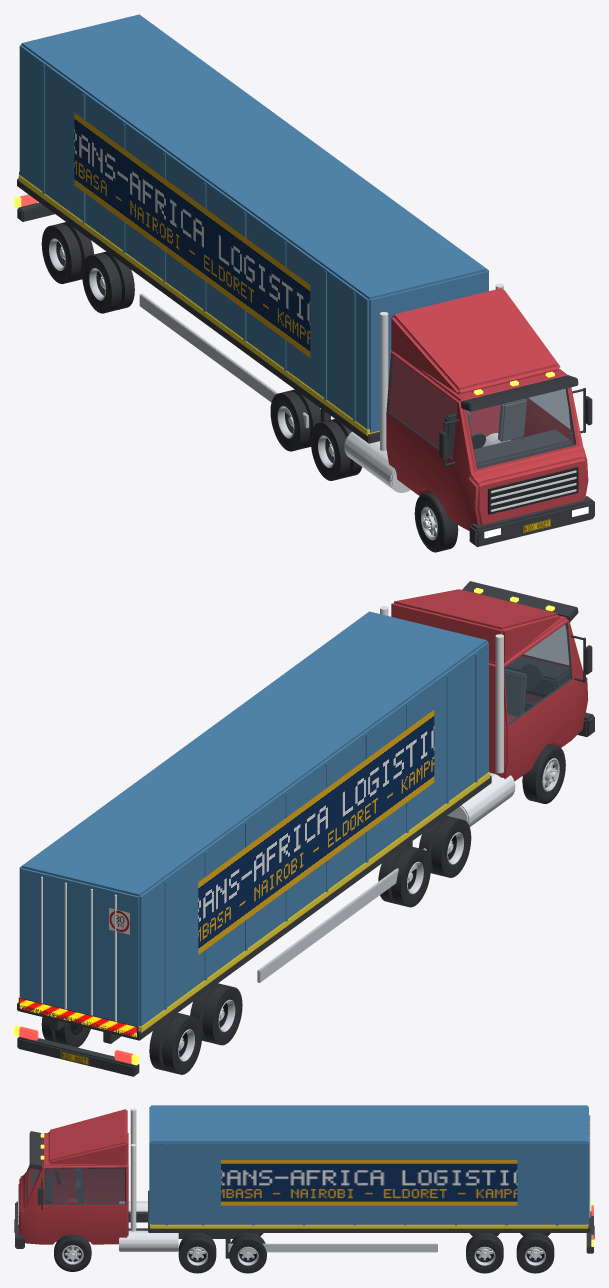
File: Kenya_SemiTrailer_Transit.glb
3 views of the same model, one above another, from view 1: azimuth 30°, elevation 25°; view 2: azimuth 150°, elevation 25°; view 3: azimuth 270°, elevation 25° (orthographic). The views are drawn at different scales.
Visible parts, largest first — view 1: Container40ft, Tractor_Cab, TrailerBanner_1, TractorWindFairing, TrailerFlatbed, Wheel_RR1, ContainerYellow, Wheel_RR2, TractorBumper, Wheel_TR2, TrailerGuard_1, Wheel_TR1 (+7 smaller); view 2: Container40ft, TrailerBanner_1, Tractor_Cab, TractorWindFairing, TrailerFlatbed, Wheel_RR2, ContainerYellow, Wheel_RR1, Wheel_TR1, Wheel_TR2, TrailerGuard_1, Wheel_FR (+8 smaller); view 3: Container40ft, TrailerBanner_-1, Tractor_Cab, TractorWindFairing, TrailerFlatbed, ContainerYellow, TrailerGuard_-1, Wheel_RL2, Wheel_TL1, Wheel_RL1, Wheel_TL2, Wheel_FL (+10 smaller).
Boxes of the visible parts, bbox=[...] form: Container40ft: bbox=[19, 14, 488, 432]; Tractor_Cab: bbox=[386, 350, 588, 530]; TrailerBanner_1: bbox=[74, 112, 310, 357]; TractorWindFairing: bbox=[391, 288, 560, 394]; TrailerFlatbed: bbox=[17, 178, 379, 443]; Wheel_RR1: bbox=[82, 251, 134, 313]; ContainerYellow: bbox=[18, 175, 379, 435]; Wheel_RR2: bbox=[41, 222, 93, 283]; TractorBumper: bbox=[469, 496, 594, 546]; Wheel_TR2: bbox=[270, 389, 320, 451]; TrailerGuard_1: bbox=[139, 293, 308, 428]; Wheel_TR1: bbox=[310, 419, 362, 480]; Container40ft: bbox=[19, 611, 488, 1029]; TrailerBanner_1: bbox=[198, 710, 434, 954]; Tractor_Cab: bbox=[489, 615, 588, 781]; TractorWindFairing: bbox=[391, 589, 560, 663]; TrailerFlatbed: bbox=[17, 775, 491, 1040]; Wheel_RR2: bbox=[149, 1013, 202, 1074]; ContainerYellow: bbox=[18, 772, 489, 1032]; Wheel_RR1: bbox=[190, 983, 242, 1045]; Wheel_TR1: bbox=[419, 816, 471, 877]; Wheel_TR2: bbox=[378, 845, 430, 907]; TrailerGuard_1: bbox=[257, 848, 426, 982]; Wheel_FR: bbox=[522, 743, 565, 803]; Container40ft: bbox=[149, 1105, 588, 1225]; TrailerBanner_-1: bbox=[221, 1160, 517, 1205]; Tractor_Cab: bbox=[19, 1133, 128, 1244]; TractorWindFairing: bbox=[48, 1109, 127, 1165]; TrailerFlatbed: bbox=[148, 1190, 590, 1232]; ContainerYellow: bbox=[150, 1224, 588, 1228]; TrailerGuard_-1: bbox=[228, 1243, 437, 1252]; Wheel_RL2: bbox=[516, 1233, 554, 1273]; Wheel_TL1: bbox=[178, 1233, 216, 1273]; Wheel_RL1: bbox=[466, 1233, 503, 1273]; Wheel_TL2: bbox=[229, 1233, 266, 1273]; Wheel_FL: bbox=[54, 1234, 91, 1271].
Bounding box in the file's own units: 2.99 × 3.97 × 16.07.
22 materials, 4 textured.
